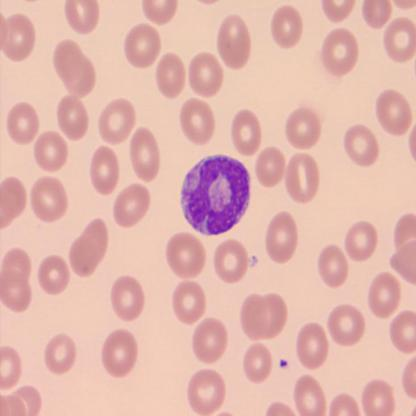Monocyte: (179, 152, 251, 237)
